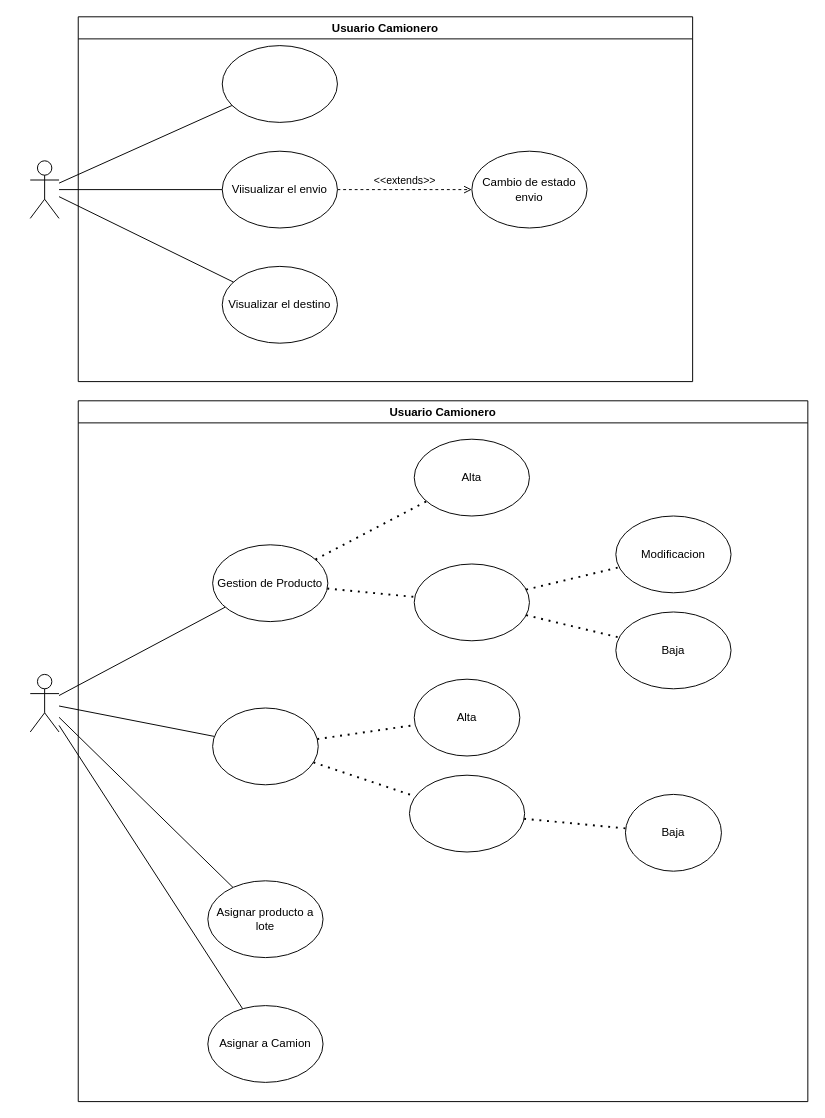
Image size: 825x1118. Some labels were removed from this diagram. Here are the shapes that lost their labels. From the top down, the box of each, then its label:
(221, 45, 337, 122): Visualizar camion asignado
(29, 160, 59, 218): Camionero
(413, 563, 529, 641): Visualizar Producto
(29, 673, 59, 732): Operario
(212, 707, 318, 785): Gestion de lote
(408, 774, 525, 852): Visualizar Lote
